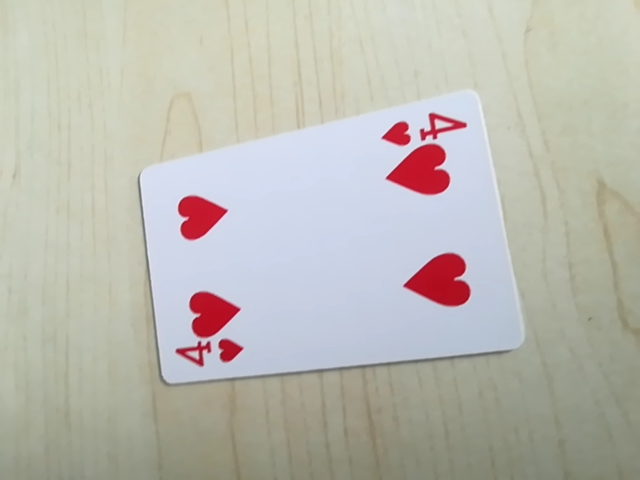hx 4: (377, 107, 468, 149), (167, 335, 248, 374)
